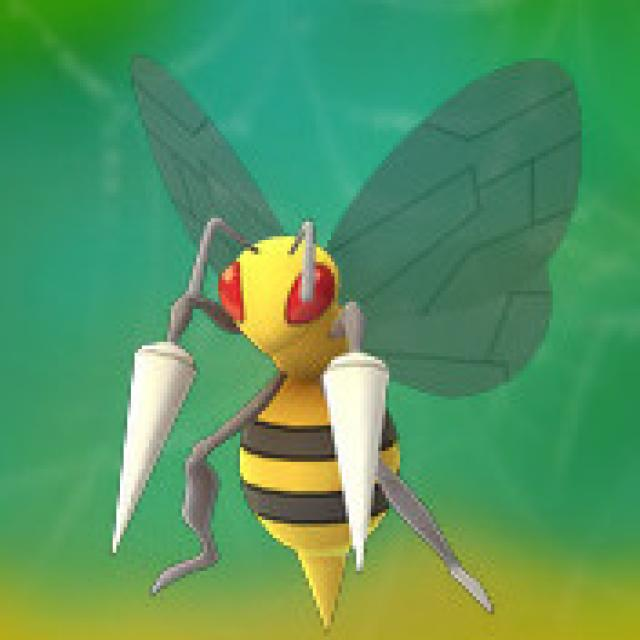Beedrill: (123, 198, 437, 625)
